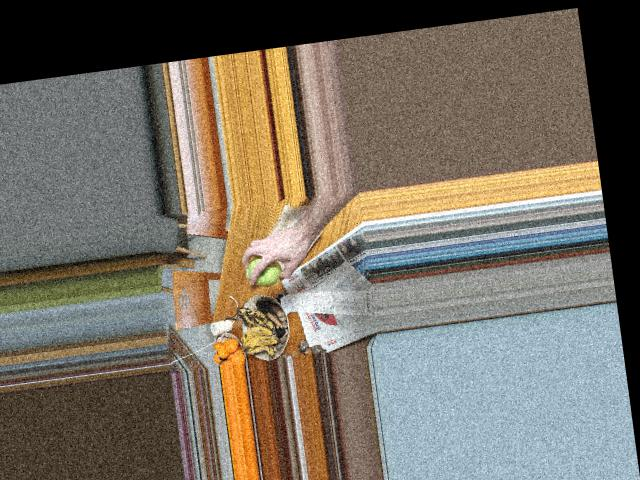apple: (244, 253, 284, 288)
